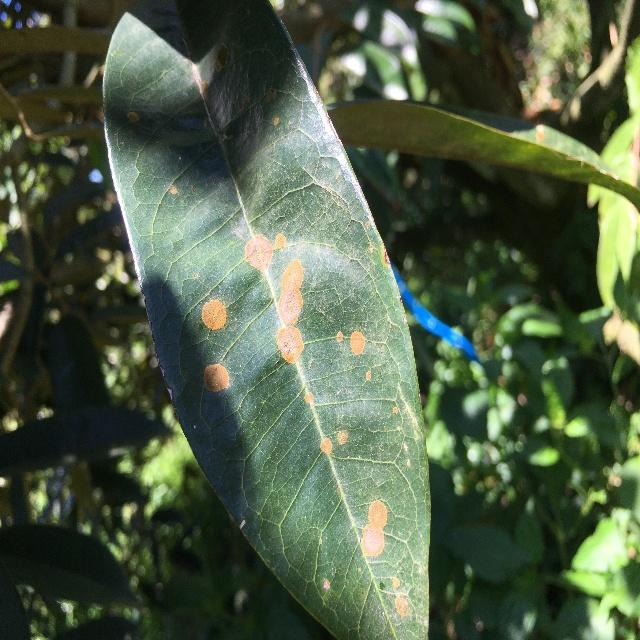Algal Leaf Spot: (89, 0, 437, 640)
